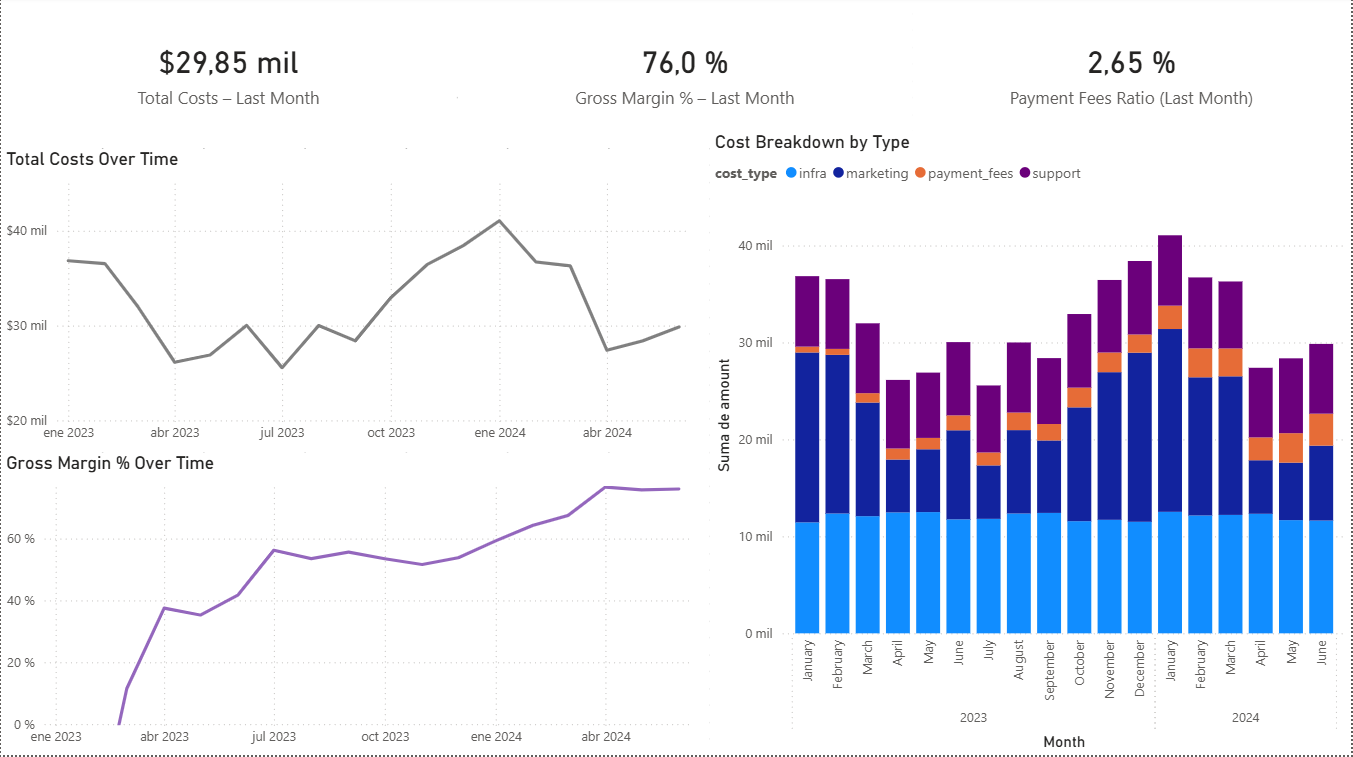

The dashboard page shown, as its layout file describes it:
{"tool":"powerbi","page":{"name":"Cost & Margin","canvas":[1280,720],"ordinal":4},"visuals":[{"type":"card","fields":{"Values":["Sum(analytics vw_monthly_costs.amount)"]},"box":[0,0,432,144],"z":0},{"type":"card","fields":{"Values":["Sum(analytics vw_monthly_margin.margin_pct)"]},"box":[432,0,432,144],"z":1000},{"type":"card","fields":{"Values":["Sum(analytics vw_payment_fees_ratio.fee_ratio)"]},"box":[864,0,416,144],"z":2000},{"type":"lineChart","title":"Total Costs Over Time","fields":{"Y":["Sum(analytics vw_monthly_costs.amount)"],"Category":["analytics vw_monthly_costs.month.Variación.Date Hierarchy.Year","analytics vw_monthly_costs.month.Variación.Date Hierarchy.Quarter","analytics vw_monthly_costs.month.Variación.Date Hierarchy.Month","analytics vw_monthly_costs.month.Variación.Date Hierarchy.Day"]},"box":[0,144,672,288],"z":3000},{"type":"lineChart","title":"Gross Margin % Over Time","fields":{"Y":["Sum(analytics vw_monthly_margin.margin_pct)"],"Category":["analytics vw_monthly_margin.month.Variación.Date Hierarchy.Year","analytics vw_monthly_margin.month.Variación.Date Hierarchy.Quarter","analytics vw_monthly_margin.month.Variación.Date Hierarchy.Month","analytics vw_monthly_margin.month.Variación.Date Hierarchy.Day"]},"box":[0,432,672,288],"z":4000},{"type":"columnChart","title":"Cost Breakdown by Type","fields":{"Category":["analytics vw_monthly_costs_by_type.month.Variación.Date Hierarchy.Year","analytics vw_monthly_costs_by_type.month.Variación.Date Hierarchy.Month"],"Y":["Sum(analytics vw_monthly_costs_by_type.amount)"],"Series":["analytics vw_monthly_costs_by_type.cost_type"]},"box":[672,128,608,592],"z":5000}]}

Visuals, with their boxes in screenshot pixels (x1, y1, x2, y2), scaled from the page's 1280x720 canvas onto the 1353x757 screenshot:
card - Sum(analytics vw_monthly_costs.amount): 0 0 457 151
card - Sum(analytics vw_monthly_margin.margin_pct): 457 0 913 151
card - Sum(analytics vw_payment_fees_ratio.fee_ratio): 913 0 1352 151
"Total Costs Over Time" lineChart: 0 151 710 454
"Gross Margin % Over Time" lineChart: 0 454 710 756
"Cost Breakdown by Type" columnChart: 710 135 1352 756
